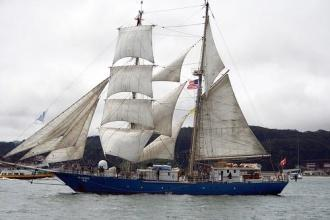fanchuan: (1, 1, 296, 196)
